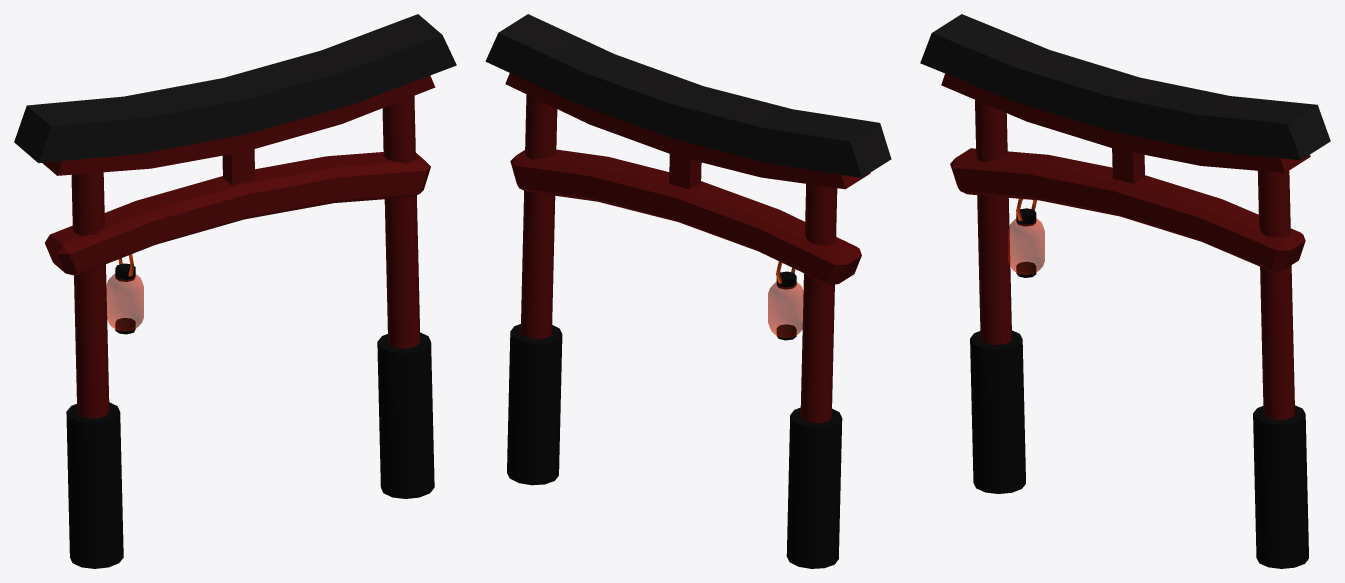
File: Chinese Gate.FBX
3 views of the same model, side by side, from view 1: azimuth 30°, elevation 25°; view 2: azimuth 150°, elevation 25°; view 3: azimuth 330°, elevation 25° (orthographic). The views are drawn at different scales.
Parts seen in each view (by area): view 1: Box113; view 2: Box113; view 3: Box113.
Part boxes in pixels (x1=…): Box113: x1=14, y1=14, x2=456, y2=568; Box113: x1=485, y1=14, x2=891, y2=568; Box113: x1=920, y1=14, x2=1330, y2=568.
Bounding box in the file's own units: 996 × 1087 × 181.
